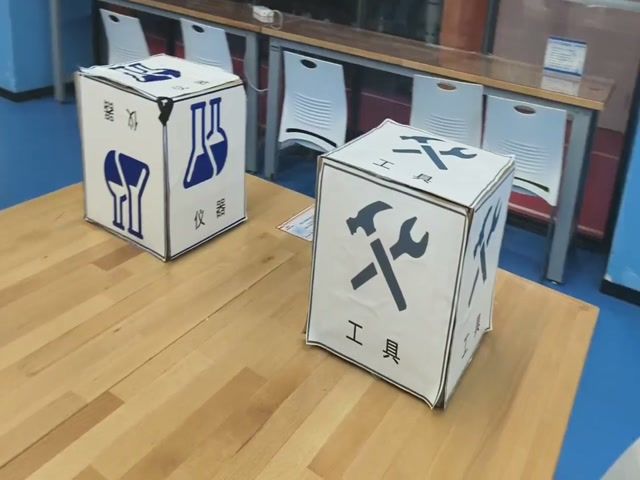Cube_ins: (77, 55, 241, 103)
Cube_tool: (320, 120, 513, 204)
